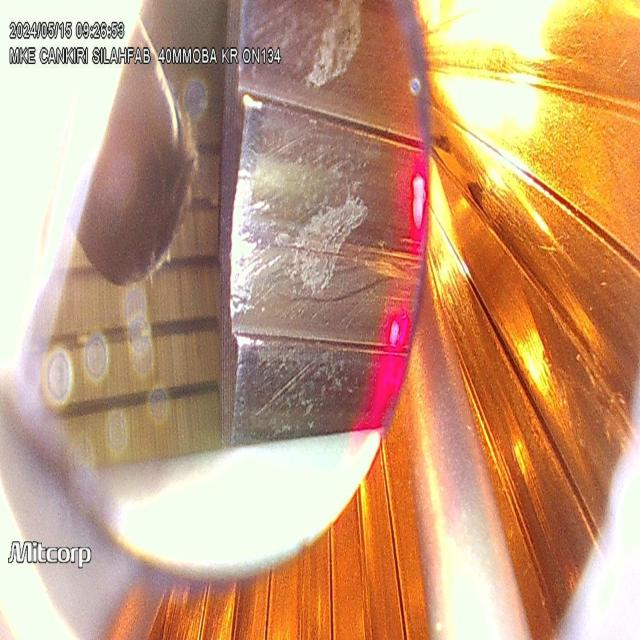hata_9.3: (291, 204, 373, 305), (304, 5, 374, 86)
